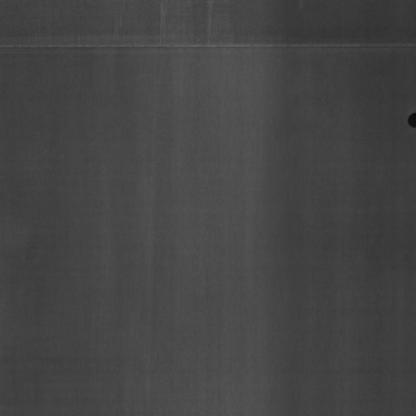waist_folding: (405, 106, 416, 128)
welding_line: (0, 34, 416, 64)
